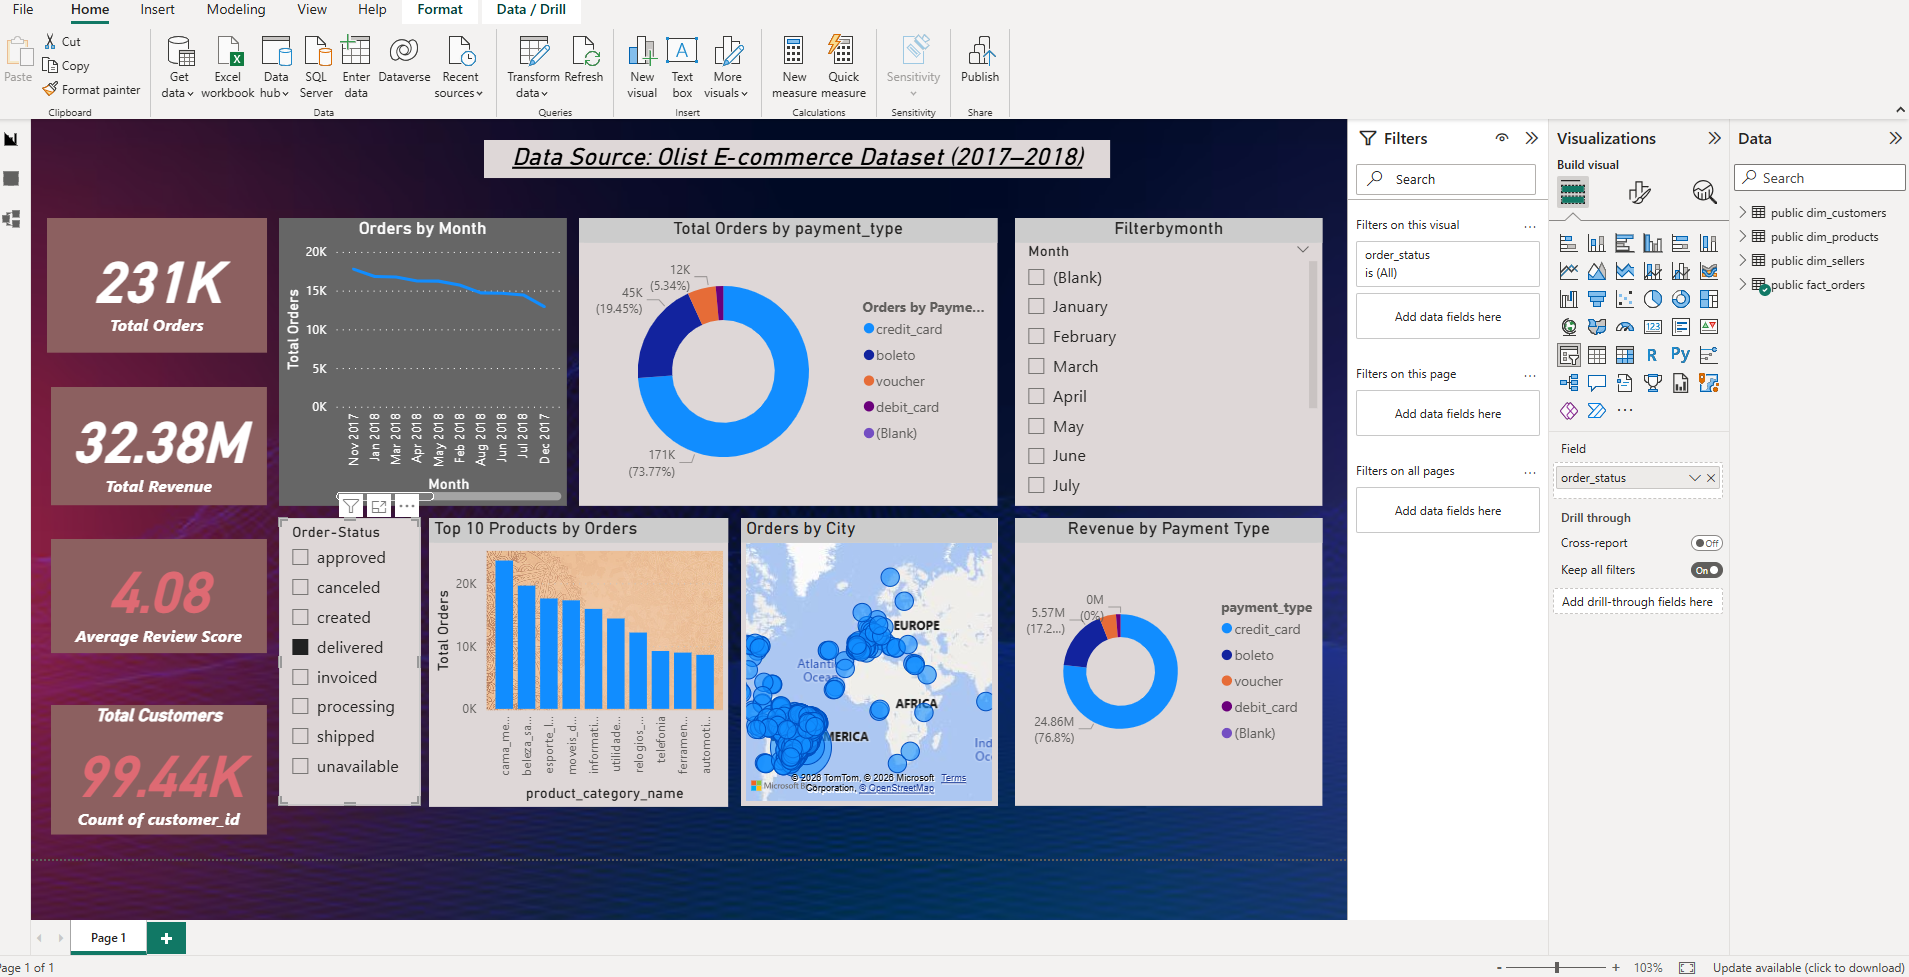

This screenshot's page, from the dashboard's own definition file:
{"tool":"powerbi","page":{"name":"Page 1","canvas":[1280,720],"ordinal":0},"visuals":[{"type":"card","fields":{"Values":["public dim_customers.Total Orders"]},"box":[15.6,96,213.9,131.4],"z":0},{"type":"card","fields":{"Values":["public dim_customers.Total Revenue"]},"box":[19.8,260.8,209.7,114.8],"z":1000},{"type":"card","fields":{"Values":["public fact_orders.Average Review Score"]},"box":[19.8,408.9,209.7,110.6],"z":2000},{"type":"lineChart","title":"Orders by Month","fields":{"Y":["public dim_customers.Total Orders"],"Category":["public fact_orders.Order Month"]},"box":[253.5,96,279.6,279.6],"z":3000},{"type":"donutChart","fields":{"Category":["public fact_orders.payment_type"],"Y":["public dim_customers.Total Orders"]},"box":[541.4,96,406.8,279.6],"z":4000},{"type":"slicer","fields":{"Values":["public fact_orders.order_status"]},"box":[241,388.1,137.7,279.6],"z":5000},{"type":"columnChart","title":"Top 10 Products by Orders","fields":{"Category":["public dim_products.product_category_name"],"Y":["public dim_customers.Total Orders"]},"box":[387,388.1,291.1,280.6],"z":6000},{"type":"card","title":"Total Customers","fields":{"Values":["Count(public dim_customers.customer_id)"]},"box":[19.8,569.6,209.7,126.2],"z":7000},{"type":"map","title":"Orders by City","fields":{"Category":["public dim_customers.customer_city"],"Size":["public dim_customers.Total Orders"]},"box":[678.1,388.1,278.5,281.7],"z":8000},{"type":"slicer","title":"Filterbymonth","fields":{"Values":["public fact_orders.order_delivered_customer_date.Variation.Date Hierarchy.Month"]},"box":[956.6,96,299.4,279.6],"z":9000},{"type":"donutChart","title":"Revenue by Payment Type","fields":{"Y":["public dim_customers.Total Revenue"],"Category":["public fact_orders.payment_type"]},"box":[956.6,388.1,299.4,281.7],"z":10000},{"type":"textbox","title":"Data Source: Olist E‑commerce Dataset (2017–2018)","box":[440.2,20.9,609.2,36.5],"z":11000}]}

Visuals, with their boxes on the page's 1280x720 design canvas (x1, y1, x2, y2). These are canvas units, not pixel positions in the 1909x977 screenshot, which may show the page scaled, cropped or inside an application window:
card - public dim_customers.Total Orders: left=16, top=96, right=230, bottom=227
card - public dim_customers.Total Revenue: left=20, top=261, right=230, bottom=376
card - public fact_orders.Average Review Score: left=20, top=409, right=230, bottom=520
"Orders by Month" lineChart: left=254, top=96, right=533, bottom=376
donutChart - public fact_orders.payment_type x public dim_customers.Total Orders: left=541, top=96, right=948, bottom=376
slicer - public fact_orders.order_status: left=241, top=388, right=379, bottom=668
"Top 10 Products by Orders" columnChart: left=387, top=388, right=678, bottom=669
"Total Customers" card: left=20, top=570, right=230, bottom=696
"Orders by City" map: left=678, top=388, right=957, bottom=670
"Filterbymonth" slicer: left=957, top=96, right=1256, bottom=376
"Revenue by Payment Type" donutChart: left=957, top=388, right=1256, bottom=670
"Data Source: Olist E‑commerce Dataset (2017–2018)" textbox: left=440, top=21, right=1049, bottom=57
